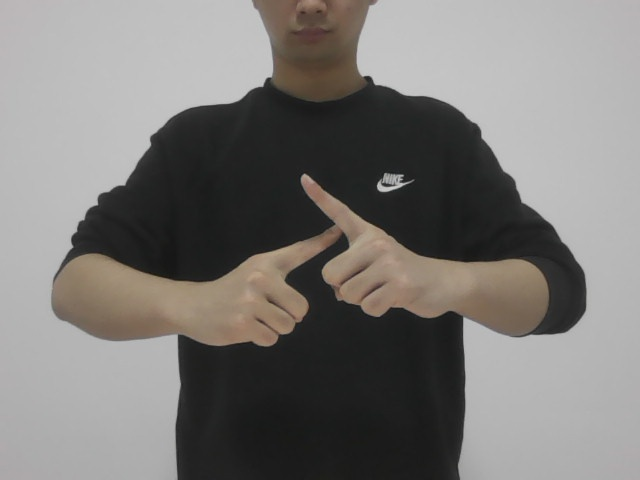peason: (220, 166, 421, 353)
